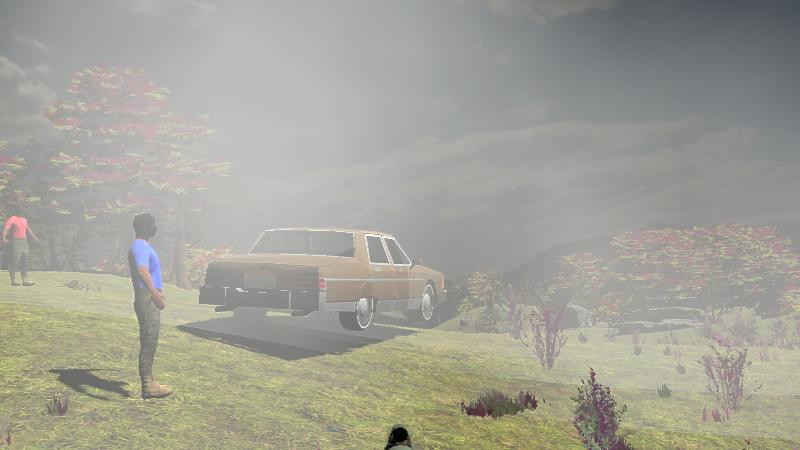Human: (131, 211, 170, 399), (3, 206, 38, 287)
car: (198, 227, 446, 331)
